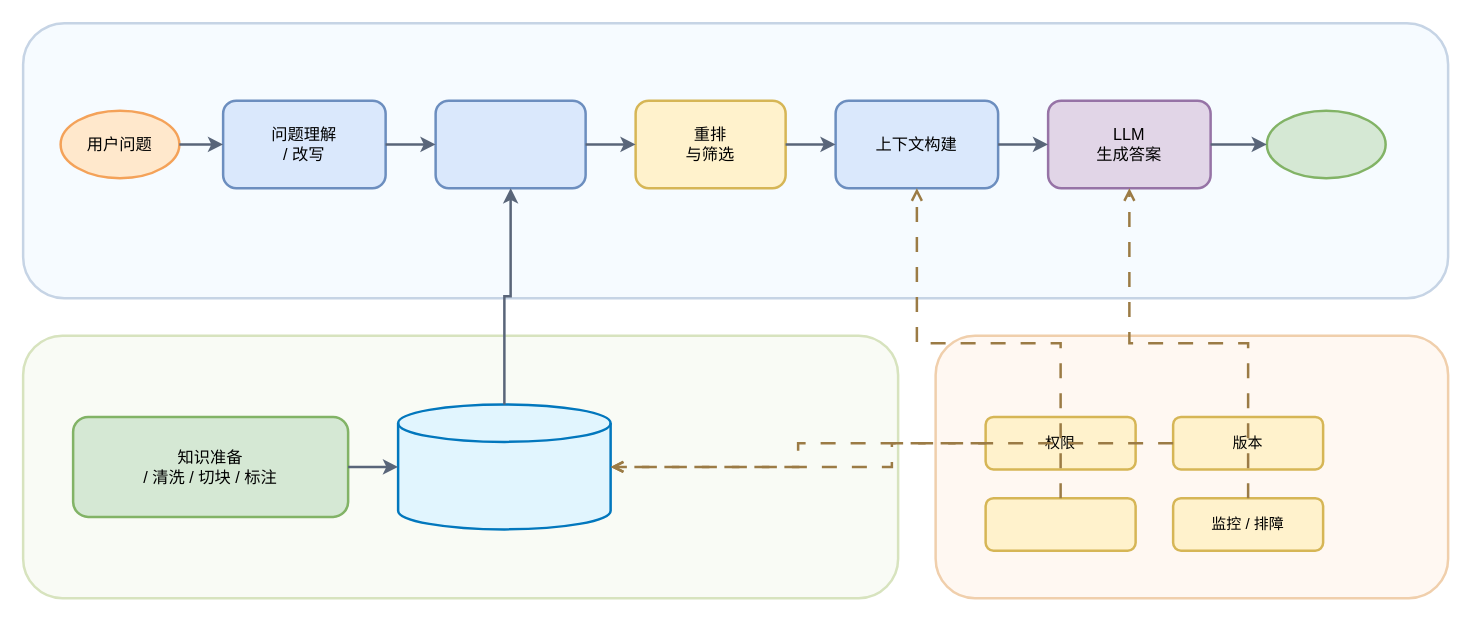
This 1470x620 diagram has some shape labels left out. Here are the shapes that lost their labels. From the top down, the centre of each, then its label:
pixel 510 144: 检索召回
pixel 1325 144: 返回结果
pixel 503 466: 知识库 / 索引
pixel 1060 523: 时效
